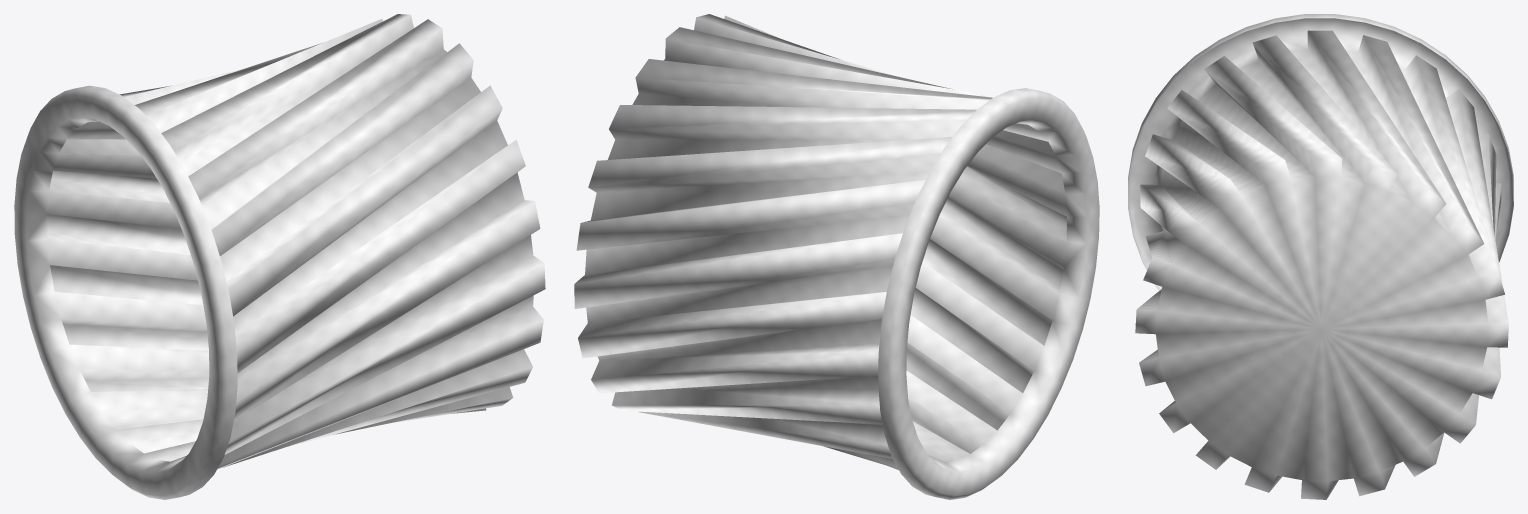
Rendered from bullet.fbx.
The picture shows the model from 3 angles, left to right: view 1: azimuth 30°, elevation 25°; view 2: azimuth 150°, elevation 25°; view 3: azimuth 270°, elevation 25°; orthographic projection. The views are drawn at different scales.
Visible parts, largest first — view 1: mesh-3; view 2: mesh-3; view 3: mesh-3.
Boxes of the visible parts, bbox=[...] form: mesh-3: bbox=[14, 14, 545, 499]; mesh-3: bbox=[574, 14, 1099, 499]; mesh-3: bbox=[1128, 14, 1513, 499].
Bounding box in the file's own units: 267 × 295 × 295.
Materials: 1 (1 with a texture image).
